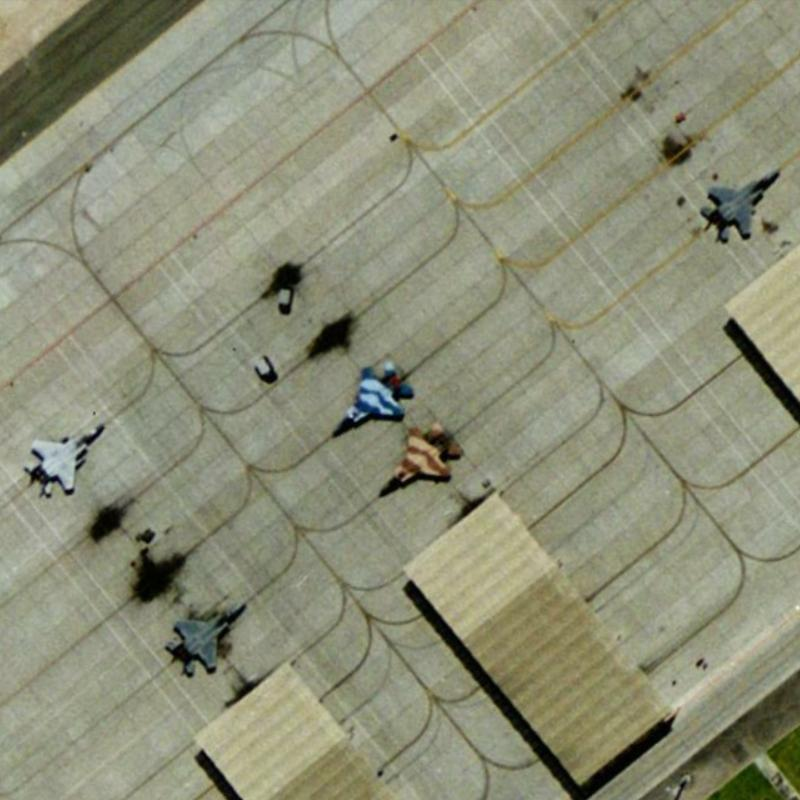A13: (318, 351, 422, 443), (374, 417, 470, 504), (166, 591, 255, 678), (20, 417, 109, 503), (692, 162, 783, 246)
